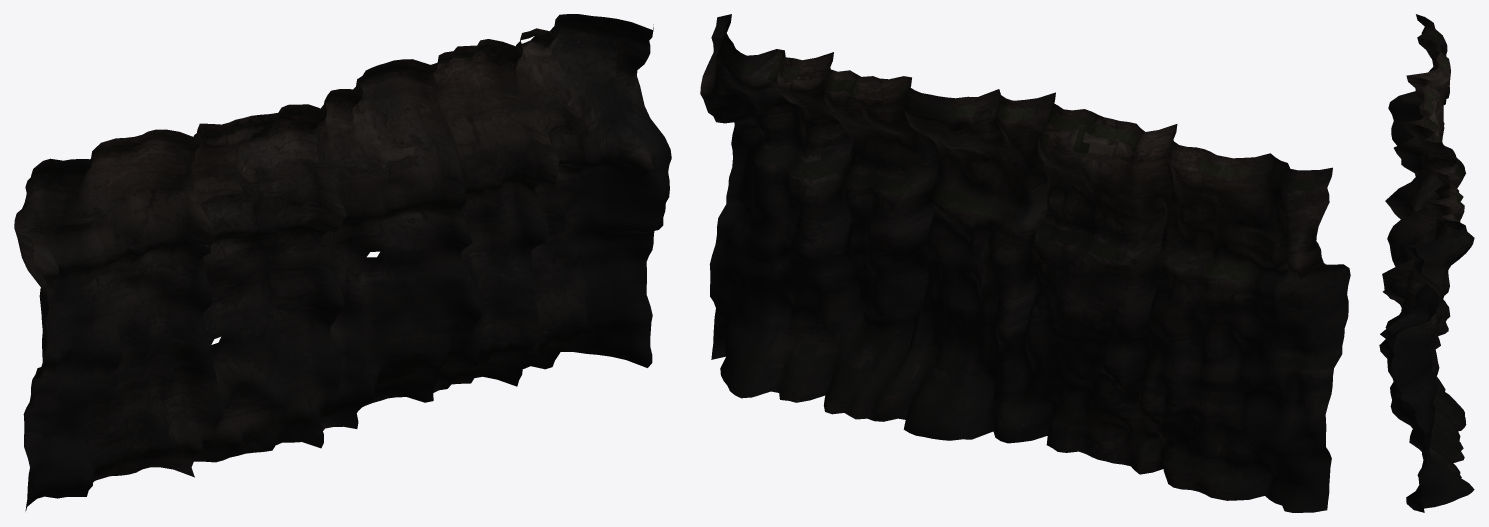
Rendered from cliff_wall_8m_mid.glb.
The picture shows the model from 3 angles, left to right: view 1: azimuth 30°, elevation 25°; view 2: azimuth 150°, elevation 25°; view 3: azimuth 270°, elevation 25°; orthographic projection. The views are drawn at different scales.
Visible parts, largest first — view 1: cliff_wall_8m_mid; view 2: cliff_wall_8m_mid; view 3: cliff_wall_8m_mid.
Boxes of the visible parts, x1,y1,x2,y2 form: cliff_wall_8m_mid: (14,14,671,511); cliff_wall_8m_mid: (700,14,1350,512); cliff_wall_8m_mid: (1379,14,1474,512).
Bounding box in the file's own units: 8 × 4.2 × 1.37.
Materials: 2 (2 with a texture image).
